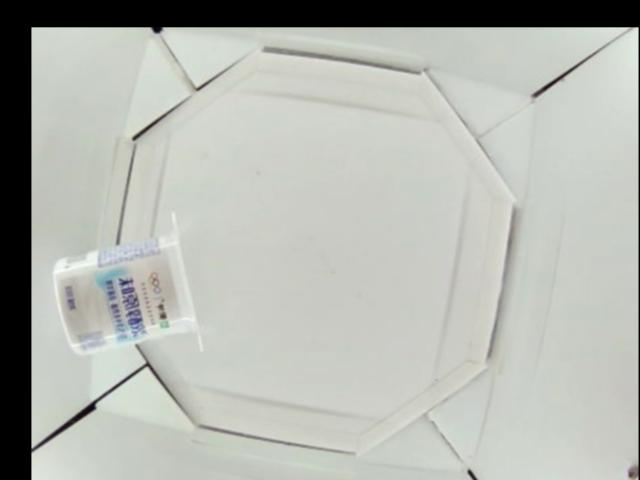Cup: (53, 211, 204, 356)
